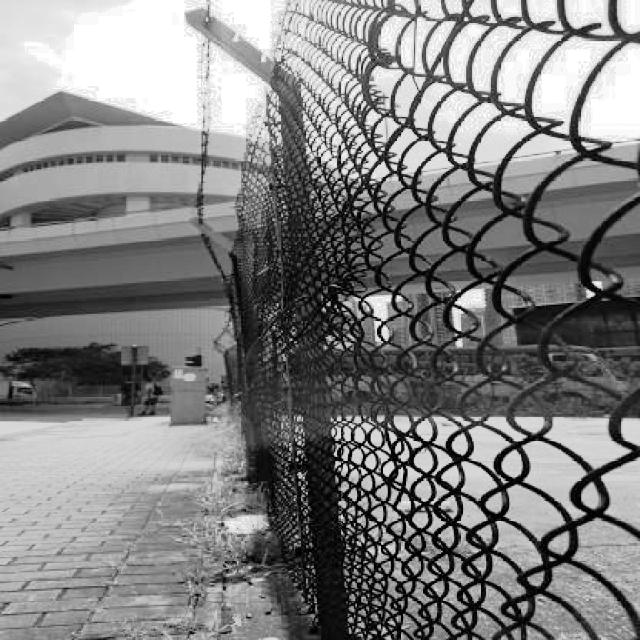fences: (311, 11, 640, 640)
